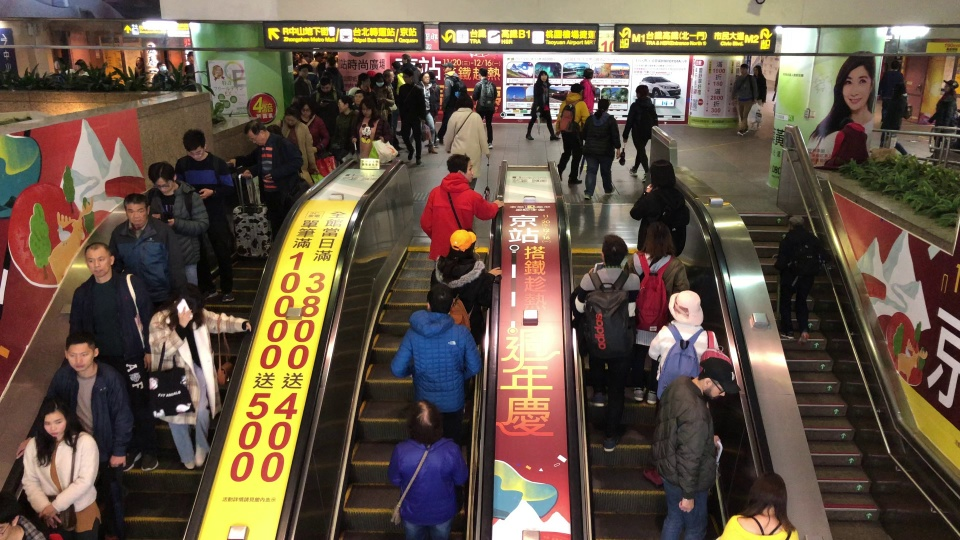person_head: (747, 470, 787, 515), (405, 399, 444, 442), (698, 357, 729, 400), (63, 331, 96, 370), (641, 220, 674, 258), (40, 398, 69, 438), (672, 289, 703, 326), (146, 160, 178, 194), (83, 242, 113, 278), (176, 283, 203, 320), (599, 233, 627, 267), (0, 491, 19, 540), (122, 192, 149, 224), (425, 282, 453, 312), (445, 153, 474, 180), (182, 127, 207, 158), (650, 158, 675, 189), (449, 229, 476, 254), (242, 119, 267, 145), (283, 105, 300, 125), (359, 96, 375, 115), (298, 98, 313, 117), (337, 95, 352, 113), (633, 83, 650, 98), (787, 215, 804, 230), (457, 93, 473, 108), (838, 116, 854, 131), (319, 76, 332, 92), (401, 67, 414, 83), (942, 79, 958, 92), (357, 72, 370, 87), (596, 97, 609, 111), (353, 89, 365, 104), (570, 82, 583, 95), (296, 64, 308, 78), (374, 72, 385, 87), (383, 68, 394, 83), (53, 57, 65, 69), (582, 67, 593, 79), (325, 57, 336, 68), (442, 61, 453, 72), (889, 59, 900, 70), (74, 61, 85, 71), (156, 61, 167, 71), (401, 53, 411, 63), (420, 72, 430, 82), (478, 67, 487, 78), (539, 70, 548, 81), (187, 51, 194, 64), (391, 60, 400, 70), (739, 63, 748, 73), (753, 65, 762, 75), (135, 57, 144, 66), (313, 52, 322, 61)
person_vbox: (15, 330, 134, 540), (68, 241, 160, 470), (147, 283, 252, 469), (642, 289, 732, 485), (389, 283, 483, 451), (649, 356, 732, 540), (569, 233, 637, 455), (386, 398, 469, 540), (21, 397, 103, 540), (628, 220, 691, 405), (174, 127, 236, 303), (420, 153, 505, 268), (226, 118, 303, 239), (108, 192, 187, 307), (429, 229, 503, 346), (146, 160, 209, 286), (773, 214, 832, 346), (628, 158, 690, 257), (716, 470, 798, 540), (442, 92, 490, 189), (581, 98, 622, 203), (553, 83, 590, 186), (621, 83, 657, 183), (273, 98, 329, 156), (274, 105, 319, 176), (813, 116, 869, 172), (397, 67, 427, 165), (524, 70, 561, 142), (350, 96, 391, 159), (436, 62, 467, 145), (876, 58, 908, 138), (928, 79, 959, 153), (471, 67, 498, 149), (729, 63, 757, 136), (416, 72, 437, 154), (335, 94, 356, 163), (750, 64, 767, 132), (391, 60, 405, 141), (311, 76, 342, 109), (373, 72, 395, 113), (579, 67, 596, 114), (321, 57, 343, 89), (293, 64, 313, 96), (152, 61, 175, 83), (183, 51, 195, 74), (134, 57, 144, 77)
